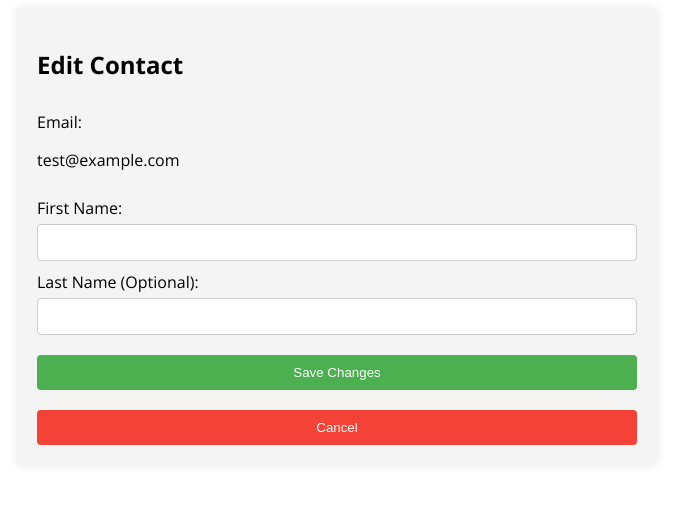
Scenario: EditContactPage Component › Gives the correct message when first name is too big
Type "bbbbbbbbbbbbbbbbbbbbbbbbbb" into the field labelled "First Name:".
click(337, 242); type("bbbbbbbbbbbbbbbbbbbbbbbbbb")  # box [37,224,637,261]
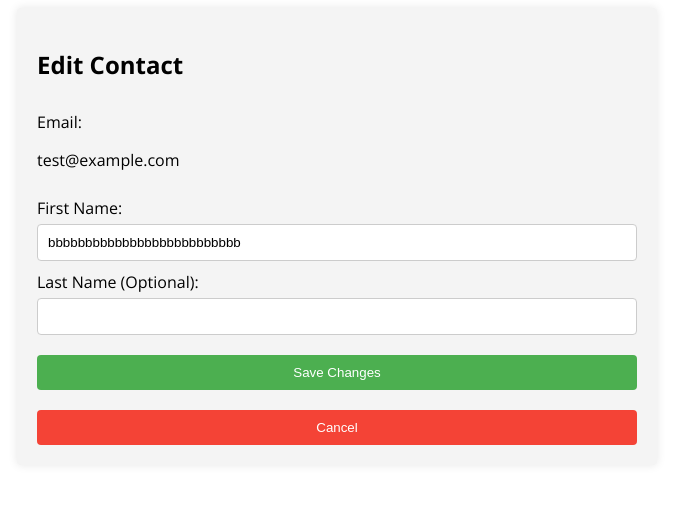
Click the button "Save Changes".
click(337, 372)  # box [37,355,637,390]
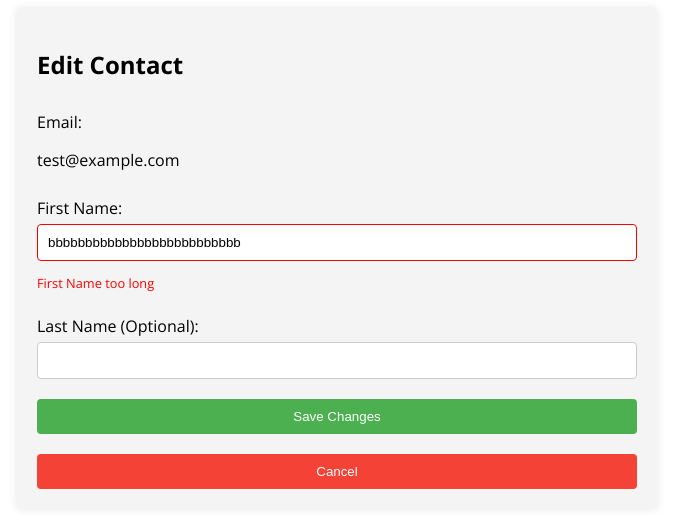
Now the text "First Name too long" is shown, box [37,274,154,292]
